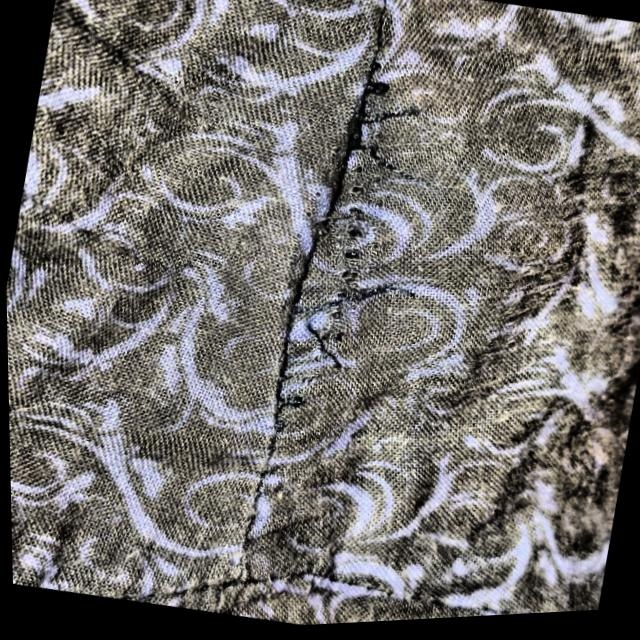seam: (156, 21, 486, 491)
